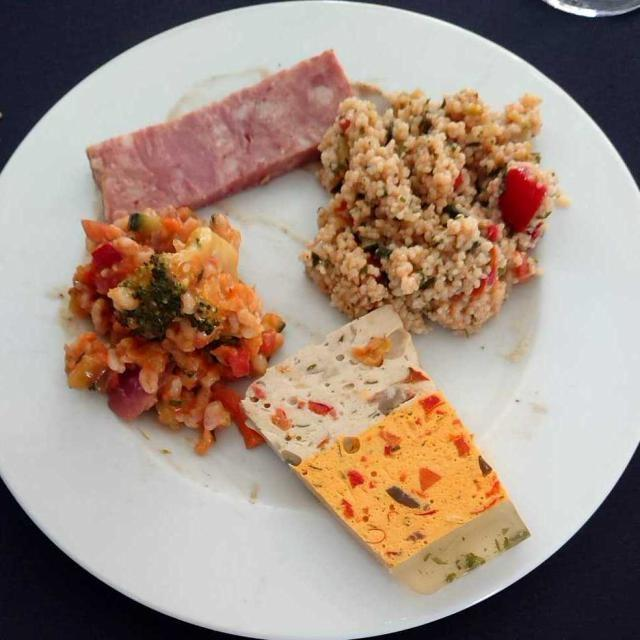couscous: (309, 90, 559, 326)
ebly: (68, 214, 278, 445)
meat-terrine-pate: (242, 306, 538, 588)
sausage: (89, 62, 348, 207)
